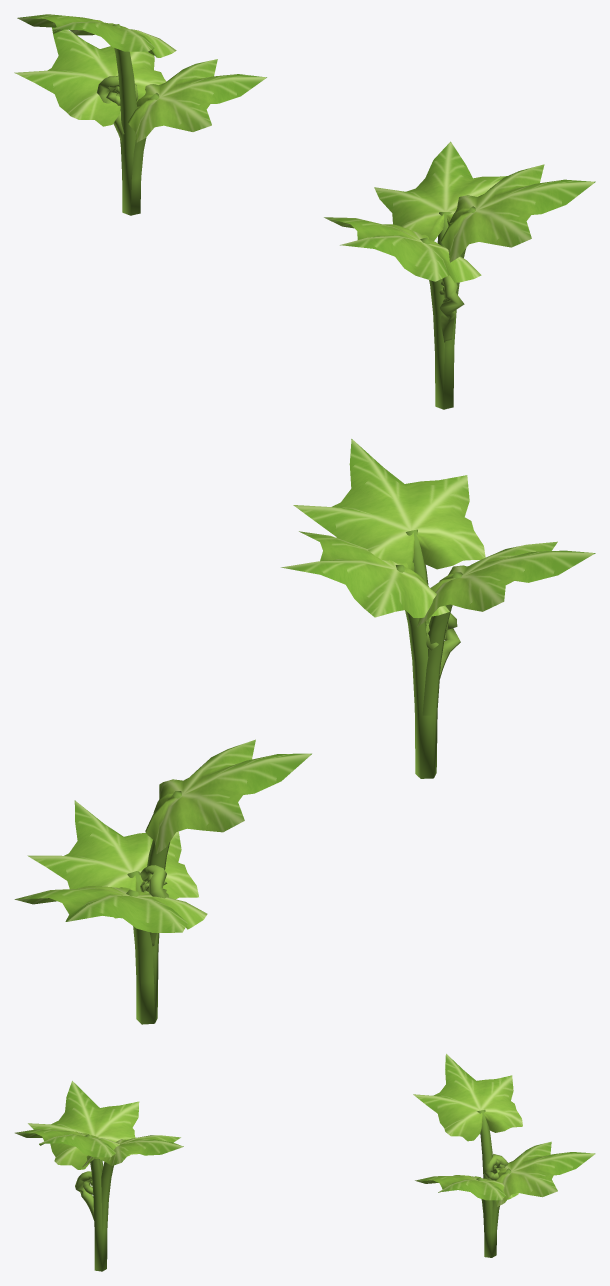
File: crop_pumpkin_1.glb
3 views of the same model, one above another, from view 1: azimuth 30°, elevation 25°; view 2: azimuth 150°, elevation 25°; view 3: azimuth 270°, elevation 25° (orthographic). The views are drawn at different scales.
Visible parts, largest first — view 1: model; view 2: model; view 3: model.
Boxes of the visible parts, bbox=[...] form: model: bbox=[14, 14, 595, 409]; model: bbox=[14, 439, 595, 1024]; model: bbox=[15, 1054, 595, 1271].
Size of the model in its own units: 0.2136 by 0.1867 by 0.5976.
Materials: 3 (1 with a texture image).
